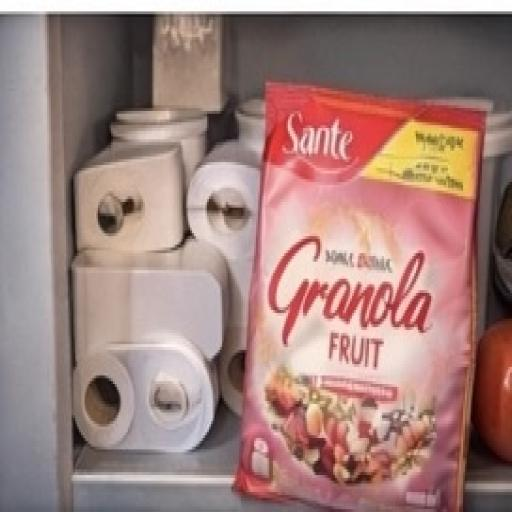granola: (238, 61, 484, 508)
